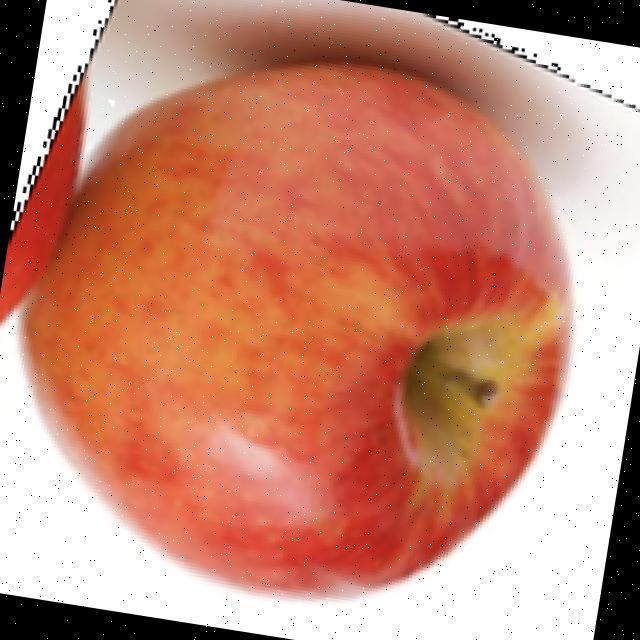apple: (0, 15, 614, 608)
